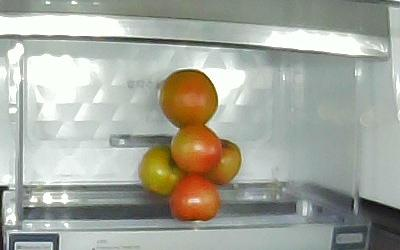tomato: (160, 69, 218, 129), (139, 146, 187, 197), (169, 126, 221, 173), (170, 174, 221, 221), (201, 139, 242, 185)
